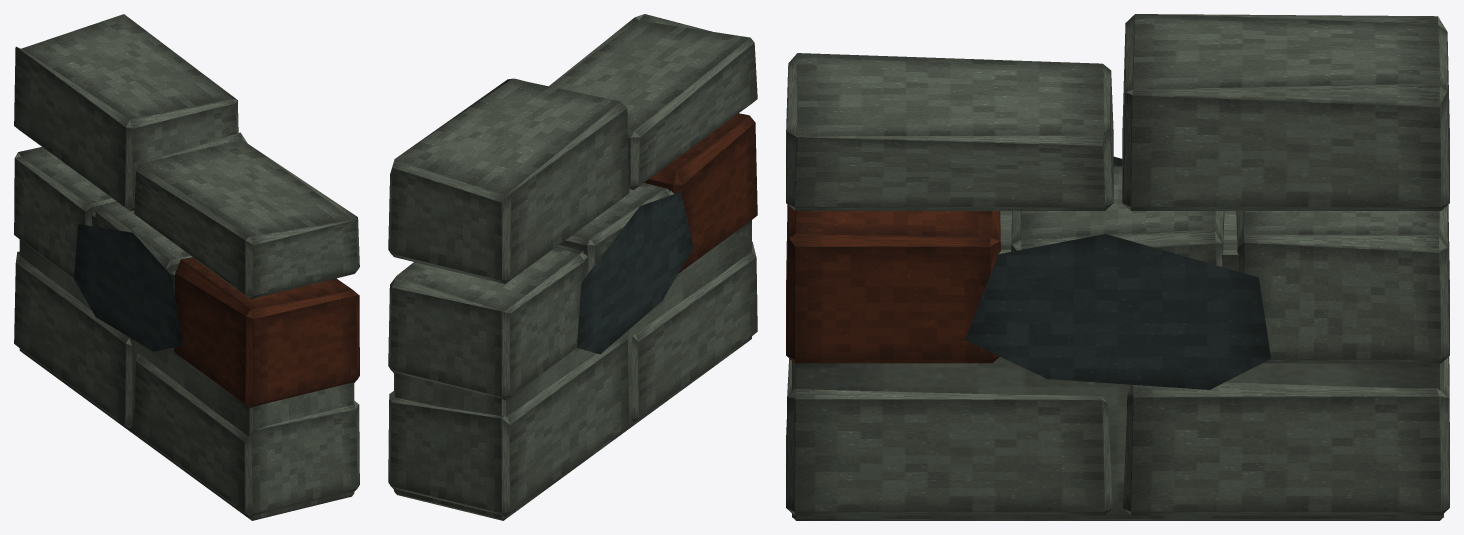
The model's file is THStage_RearRoomDivider.fbx.
3 views of the same model, side by side, from view 1: azimuth 30°, elevation 25°; view 2: azimuth 150°, elevation 25°; view 3: azimuth 270°, elevation 25° (orthographic). The views are drawn at different scales.
Parts seen in each view (by area): view 1: THStage_RearRoomDivider.015; view 2: THStage_RearRoomDivider.015; view 3: THStage_RearRoomDivider.015.
Part boxes in pixels (bbox=[...]): THStage_RearRoomDivider.015: bbox=[14, 14, 359, 520]; THStage_RearRoomDivider.015: bbox=[388, 14, 757, 520]; THStage_RearRoomDivider.015: bbox=[786, 14, 1449, 520].
Size of the model in its own units: 0.258 by 0.6629 by 0.908.
Materials: 1 (1 with a texture image).
